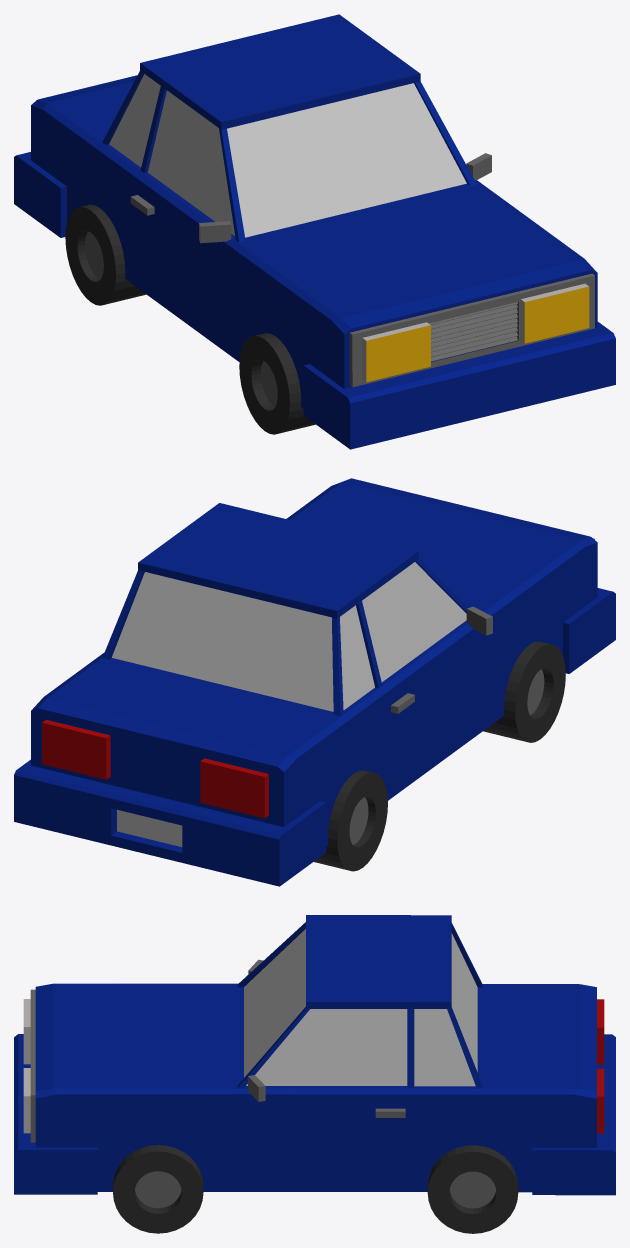
The model's file is Car_1.fbx.
3 renders of one model, top to bottom at view 1: azimuth 30°, elevation 25°; view 2: azimuth 150°, elevation 25°; view 3: azimuth 270°, elevation 25°, orthographic. The views are drawn at different scales.
Visible parts, largest first — view 1: Cube.001; view 2: Cube.001; view 3: Cube.001.
Part boxes in pixels (x1,y1,x2,y2): Cube.001: (14, 14, 615, 449); Cube.001: (14, 478, 615, 886); Cube.001: (14, 915, 615, 1233).
Bounding box in the file's own units: 4.97 × 9.92 × 3.89.
